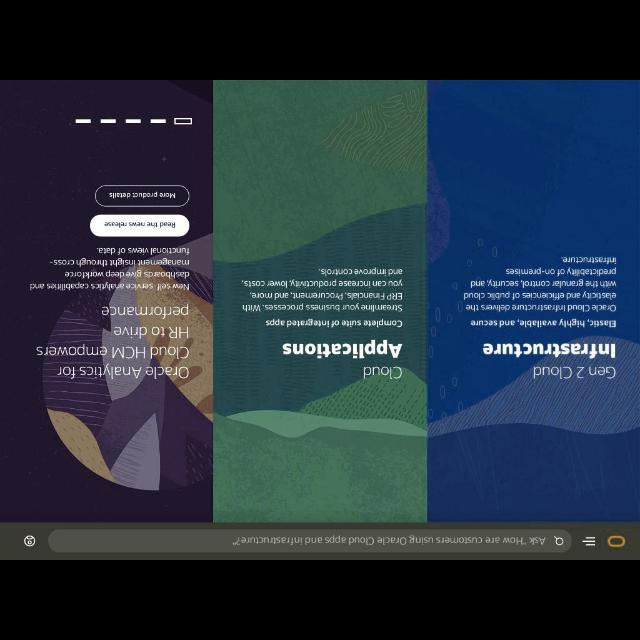backgroundimage: (426, 82, 640, 520), (215, 83, 428, 520), (2, 80, 212, 522)
icon: (580, 535, 600, 549), (607, 535, 629, 547), (22, 535, 38, 547), (554, 535, 566, 547)
input: (49, 528, 569, 550)
pageindicator: (73, 118, 199, 130)
text: (34, 302, 194, 382), (462, 266, 618, 312), (28, 248, 190, 290), (241, 278, 403, 312), (230, 536, 548, 546), (482, 340, 616, 358), (282, 340, 402, 360), (264, 317, 406, 329), (531, 362, 619, 380), (468, 318, 618, 328), (319, 265, 403, 275), (362, 365, 406, 379), (560, 255, 620, 265)
textbutton: (90, 214, 188, 236), (94, 186, 192, 207)
